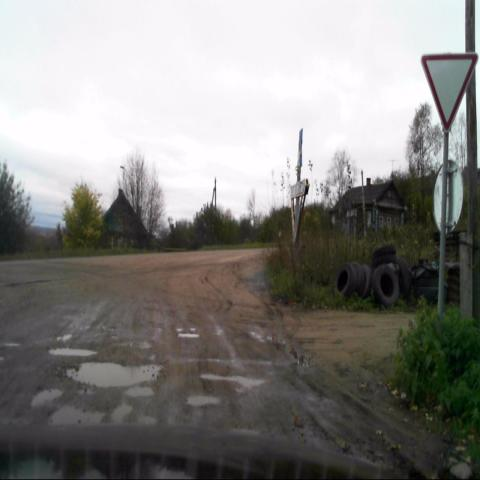2_4: (420, 52, 478, 130)
